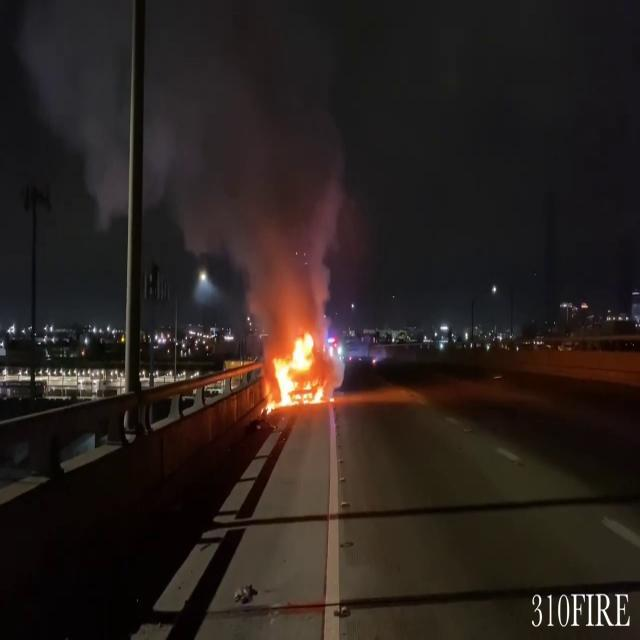Fire: (263, 326, 329, 411)
Smoke: (146, 0, 360, 323)
